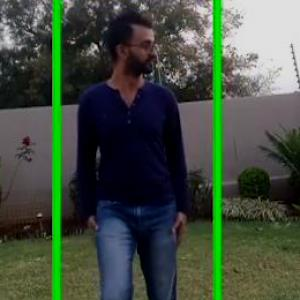follow: (68, 6, 199, 299)
